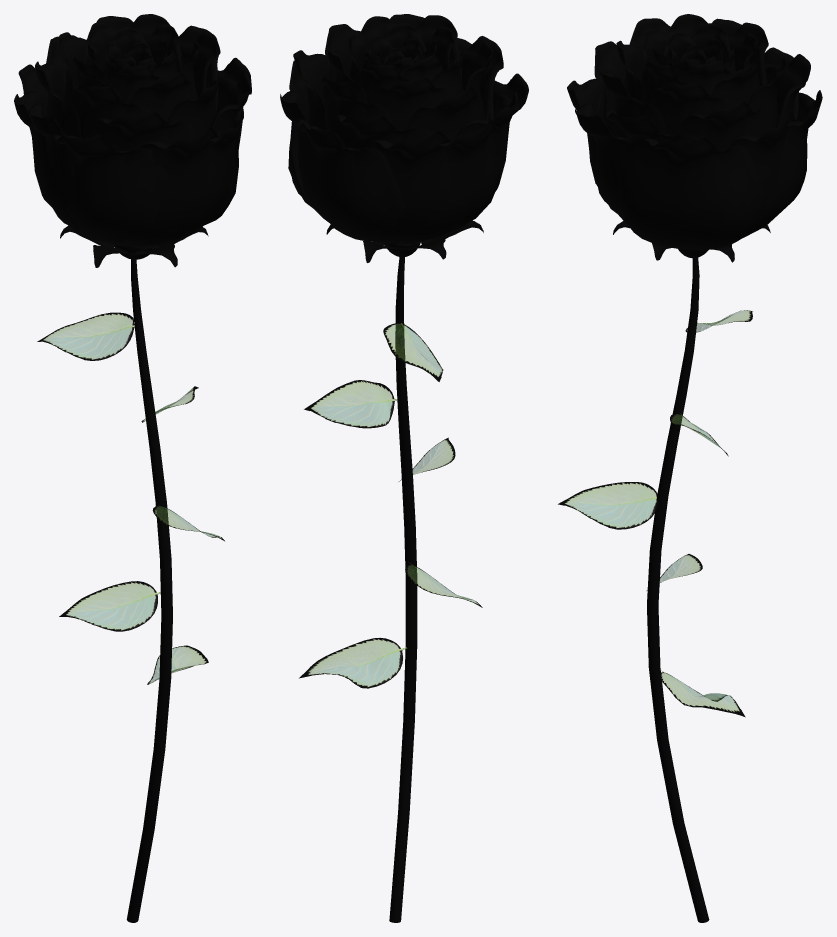
File: flower2.glb
3 views of the same model, side by side, from view 1: azimuth 30°, elevation 25°; view 2: azimuth 150°, elevation 25°; view 3: azimuth 270°, elevation 25° (orthographic).
Visible parts, largest first — view 1: BUD_BOTTOM; view 2: BUD_BOTTOM; view 3: BUD_BOTTOM.
Part boxes in pixels (x1,y1,x2,y2): BUD_BOTTOM: (14, 14, 251, 922); BUD_BOTTOM: (280, 14, 528, 922); BUD_BOTTOM: (558, 14, 822, 922).
Size of the model in its own units: 1.04 by 4.09 by 1.12.
Materials: 5 (5 with a texture image).
